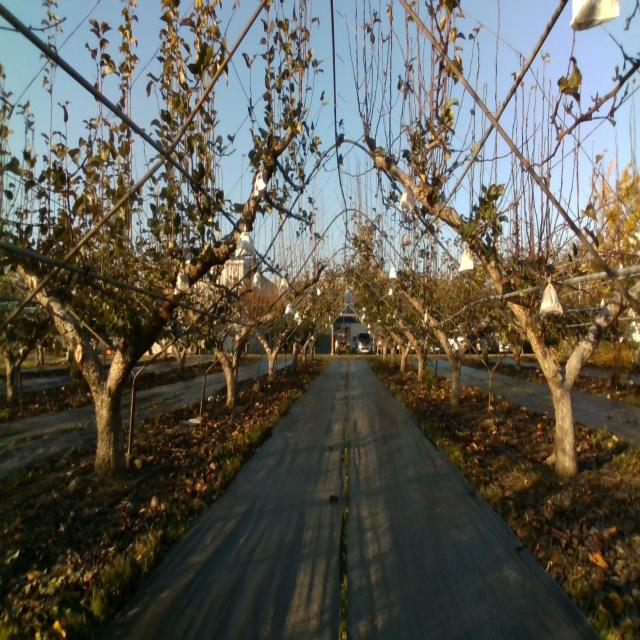pearbags: (540, 276, 562, 316), (235, 228, 256, 262), (173, 264, 191, 294), (252, 165, 268, 198), (398, 186, 416, 213), (458, 244, 474, 271)
